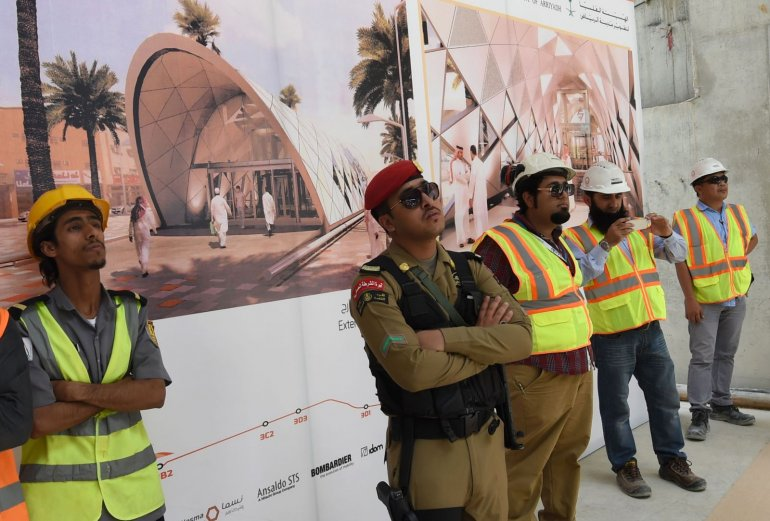Hard Hat: (21, 184, 110, 217), (503, 152, 578, 187), (580, 159, 629, 193), (688, 155, 734, 181)
High Viz: (13, 299, 160, 486), (491, 224, 584, 333), (569, 220, 663, 305), (681, 206, 755, 290)
